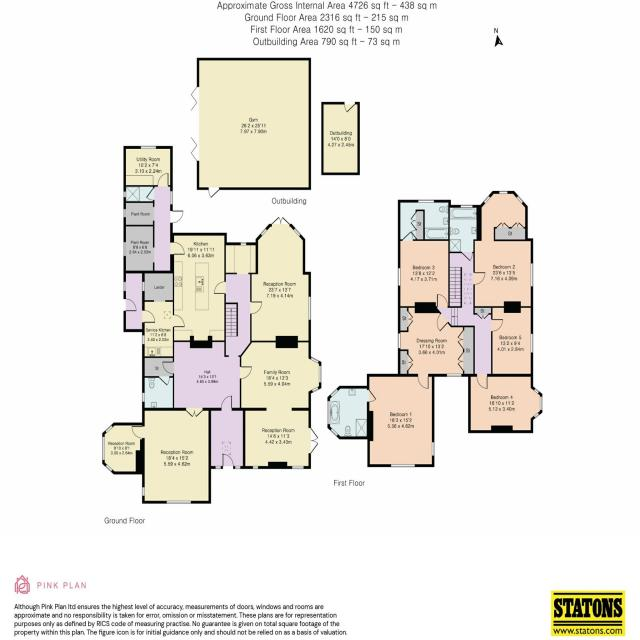DOOR: (131, 425, 145, 439), (170, 242, 185, 255), (476, 373, 488, 389), (417, 373, 429, 389), (221, 395, 233, 411), (222, 454, 234, 469), (473, 272, 486, 285), (213, 281, 226, 294), (142, 310, 155, 323), (161, 361, 174, 374), (436, 294, 448, 308), (250, 301, 262, 315), (173, 314, 185, 328), (491, 319, 503, 332), (240, 366, 252, 379), (367, 389, 377, 402), (158, 376, 170, 386), (462, 252, 473, 262)
DOUBLE DOOR: (308, 424, 321, 458), (270, 215, 292, 227)
ROOM: (239, 341, 322, 469), (131, 407, 211, 504), (250, 216, 311, 342), (367, 374, 435, 467), (170, 232, 227, 342), (468, 374, 543, 433), (473, 238, 533, 308), (398, 231, 450, 308), (491, 306, 533, 377), (102, 422, 145, 475)
WINDOW: (166, 500, 191, 504), (330, 388, 339, 398), (330, 428, 339, 437), (260, 227, 268, 237), (293, 227, 301, 237), (397, 267, 401, 286), (327, 400, 330, 425), (102, 436, 105, 461), (308, 296, 311, 321), (483, 195, 491, 204), (516, 195, 524, 204), (391, 464, 415, 467), (310, 356, 319, 364), (105, 424, 113, 433), (105, 464, 113, 473), (319, 365, 322, 383), (533, 412, 540, 419), (312, 386, 319, 393), (531, 263, 533, 287), (540, 396, 543, 410), (432, 442, 435, 456), (531, 333, 533, 353), (460, 205, 473, 208), (534, 388, 540, 394), (292, 466, 304, 469), (142, 392, 145, 403), (142, 335, 145, 345), (499, 191, 508, 194), (142, 487, 145, 496), (252, 466, 259, 469), (215, 466, 221, 469), (235, 466, 241, 469)
